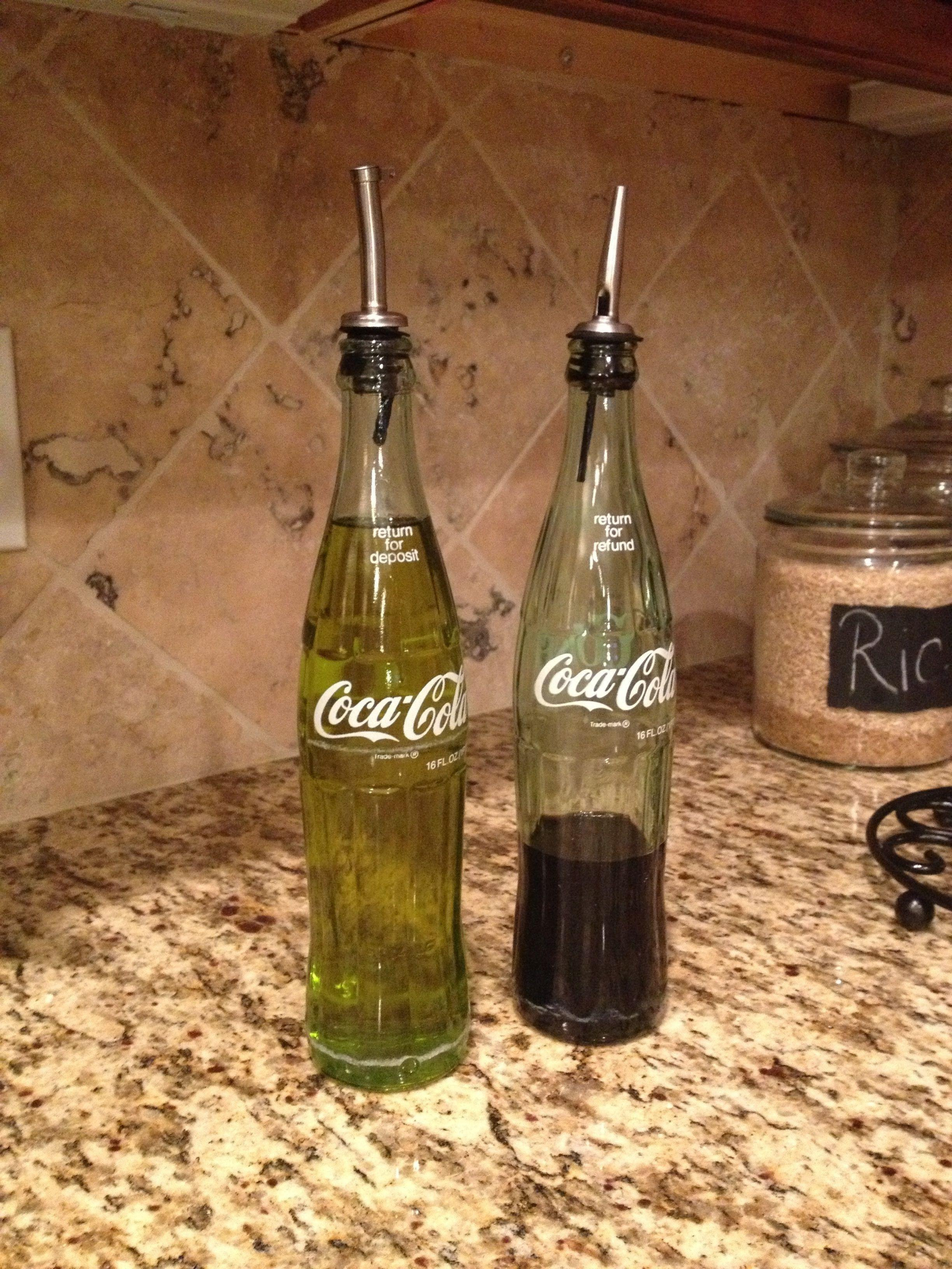bottle-glass: (289, 308, 478, 1098), (504, 314, 684, 1055)
